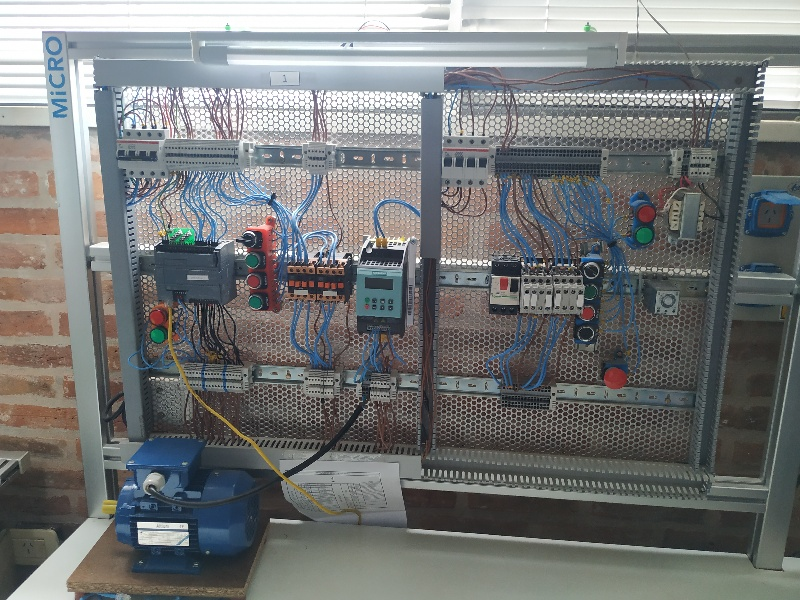Tablero 1: (107, 74, 741, 477)
